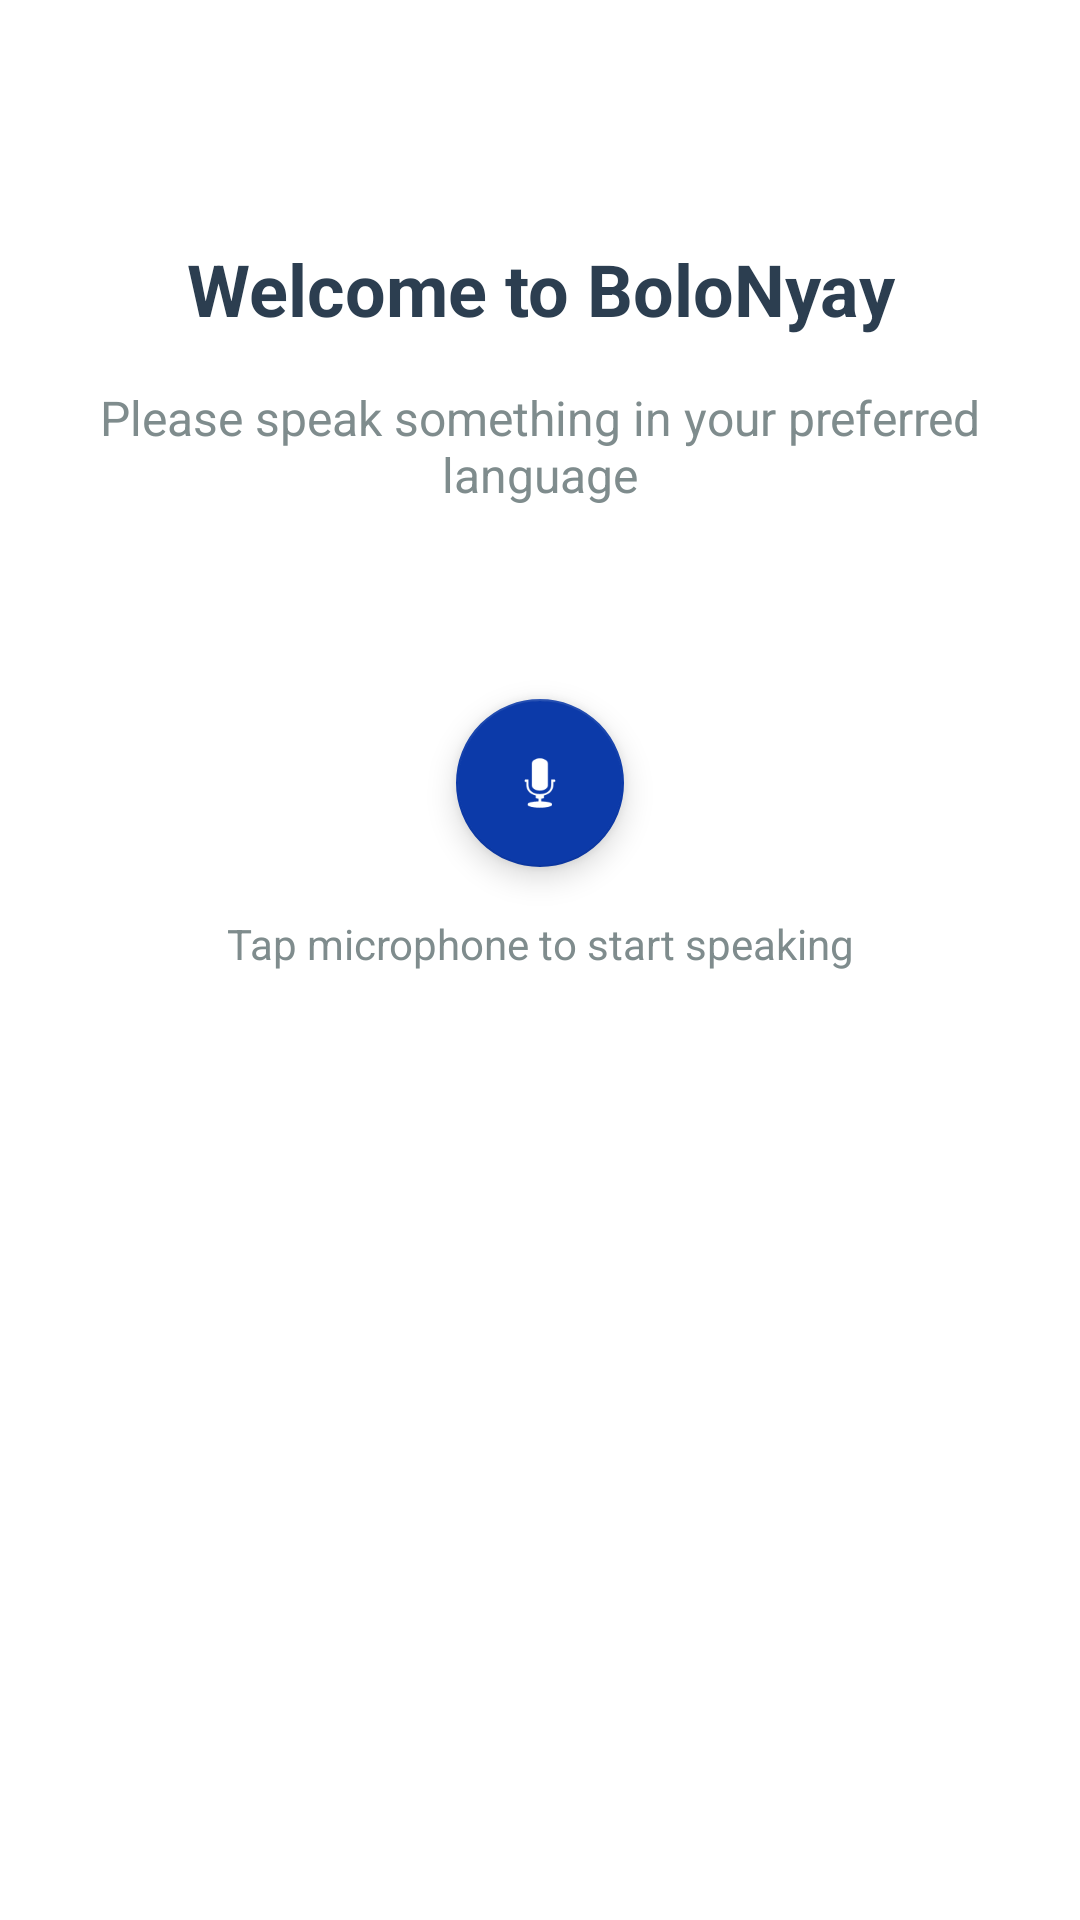

Named icons in this screenshot (1080 x 1920) and their bounding boxes, (x1,y1,x2,y2):
speak now: (456,699,624,867)
